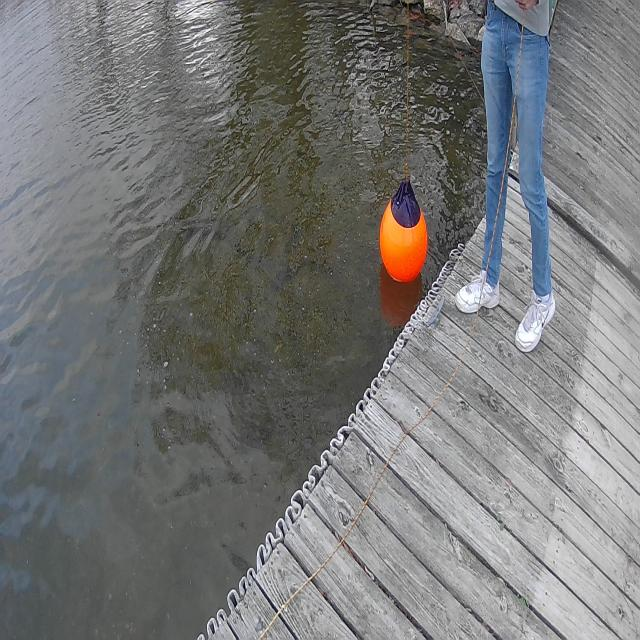Buoy: (377, 169, 430, 289)
